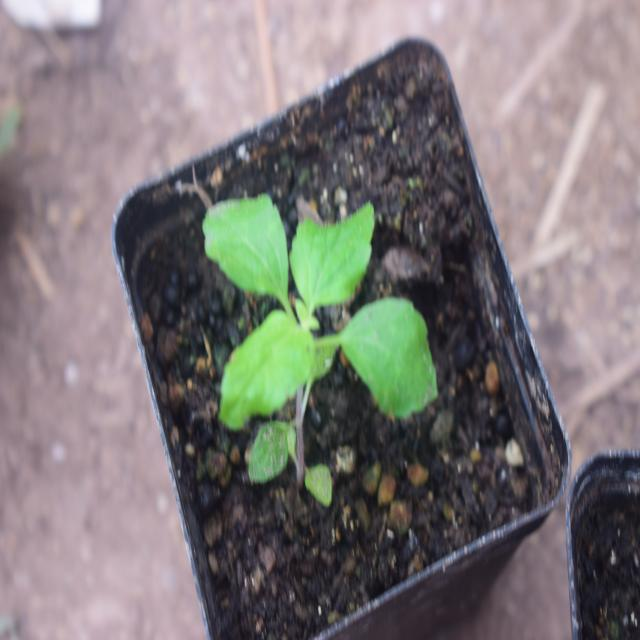billygoat_weed: (207, 173, 428, 473)
